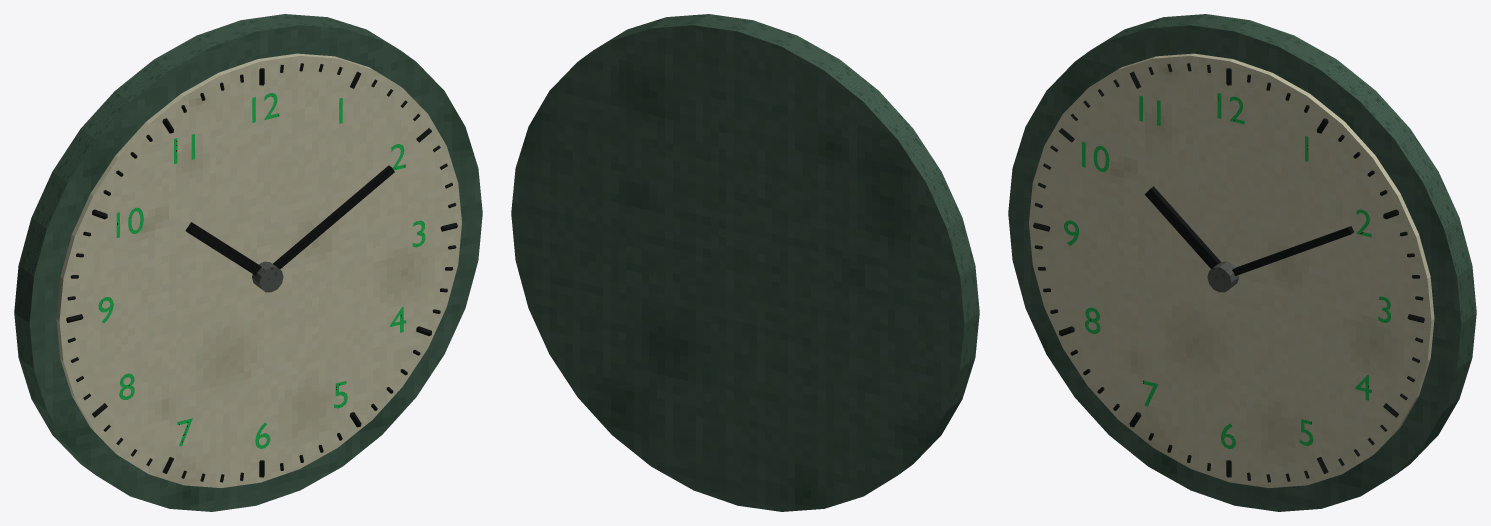
Rendered from wall_clock.glb.
3 renders of one model, left to right at view 1: azimuth 30°, elevation 25°; view 2: azimuth 150°, elevation 25°; view 3: azimuth 330°, elevation 25°, orthographic.
Parts seen in each view (by area): view 1: 08_Wall_Clock_Mesh.001, Minute_Hand blade.001, Hour_Hand blade.001; view 2: 08_Wall_Clock_Mesh.001; view 3: 08_Wall_Clock_Mesh.001, Hour_Hand blade.001, Minute_Hand blade.001.
Part boxes in pixels (x1,y1,x2,y2): 08_Wall_Clock_Mesh.001: [14, 14, 482, 511]; Minute_Hand blade.001: [273, 165, 394, 269]; Hour_Hand blade.001: [185, 222, 261, 275]; 08_Wall_Clock_Mesh.001: [511, 14, 979, 511]; 08_Wall_Clock_Mesh.001: [1008, 14, 1476, 511]; Hour_Hand blade.001: [1145, 186, 1220, 268]; Minute_Hand blade.001: [1232, 226, 1353, 275].
Bounding box in the file's own units: 0.68 × 0.68 × 0.08.
1 material, 1 textured.
